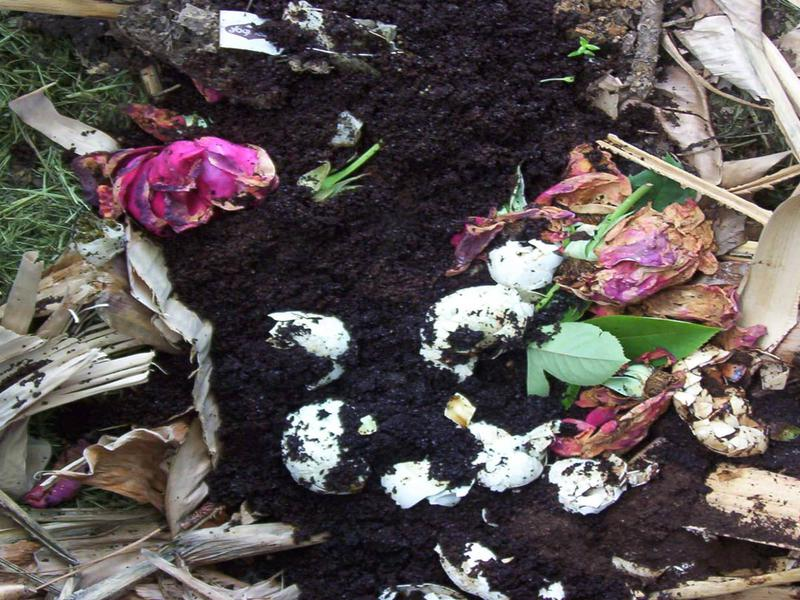flowers: (456, 144, 777, 464), (63, 100, 278, 239)
leaf: (50, 414, 219, 543)
